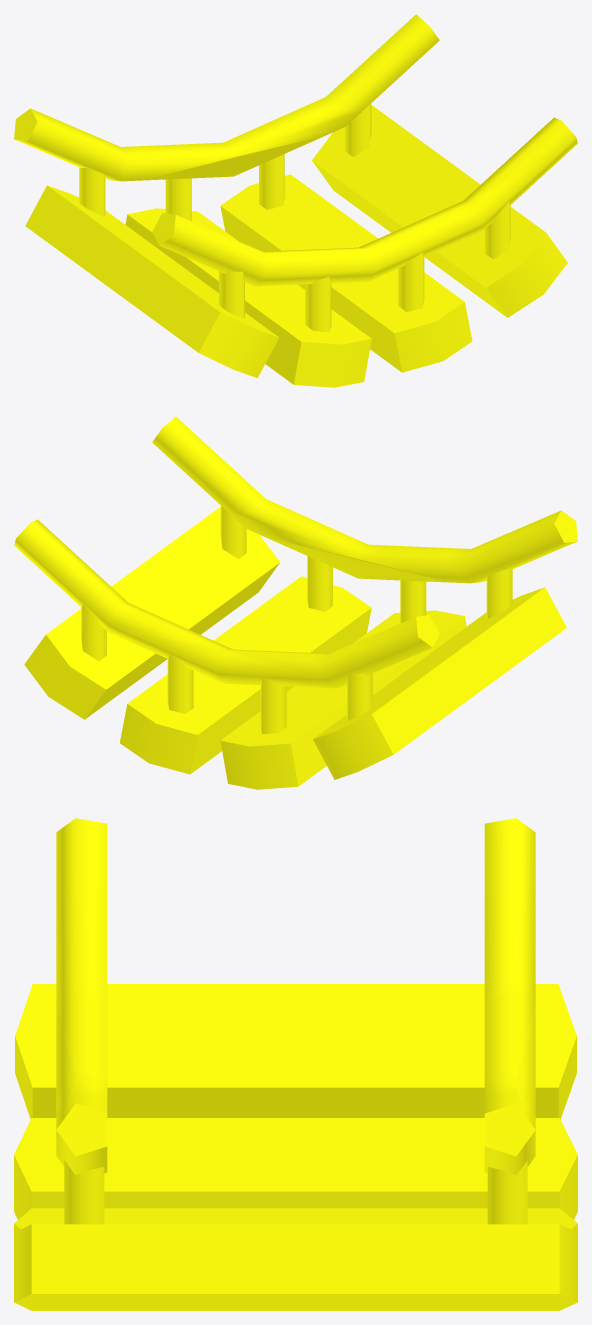
The model's file is _fbx_all_bridge.glb.
The picture shows the model from 3 angles, top to bottom: view 1: azimuth 30°, elevation 25°; view 2: azimuth 150°, elevation 25°; view 3: azimuth 270°, elevation 25°; orthographic projection. The views are drawn at different scales.
Parts seen in each view (by area): view 1: bridge; view 2: bridge; view 3: bridge.
Part boxes in pixels (<box>): bridge: <box>14,14,577,387</box>; bridge: <box>14,416,577,789</box>; bridge: <box>14,818,577,1310</box>.
Size of the model in its own units: 1.04 by 0.4729 by 0.8011.
Materials: 1 (1 with a texture image).
